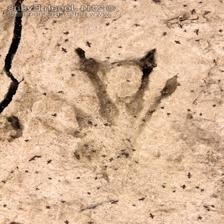beaver: (46, 36, 194, 176)
